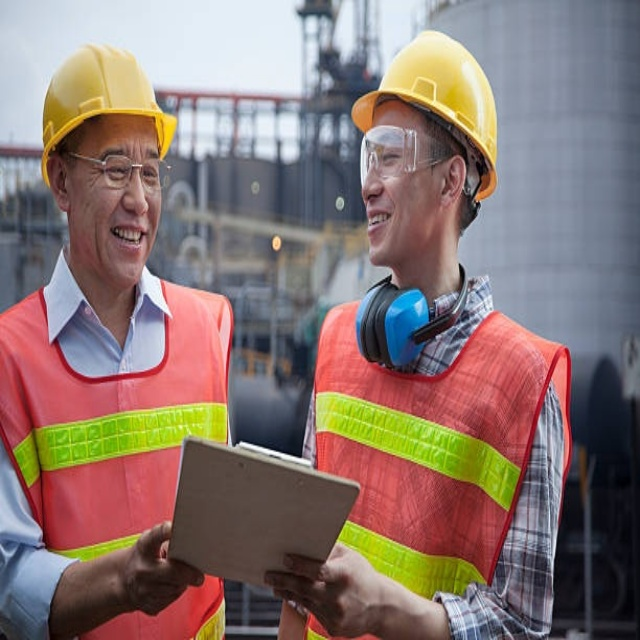Gafas: (361, 125, 458, 184), (63, 150, 171, 193)
Sin_guantes: (265, 541, 386, 639), (114, 517, 208, 620)
Sin_mascara: (104, 213, 151, 268), (363, 199, 406, 251)
